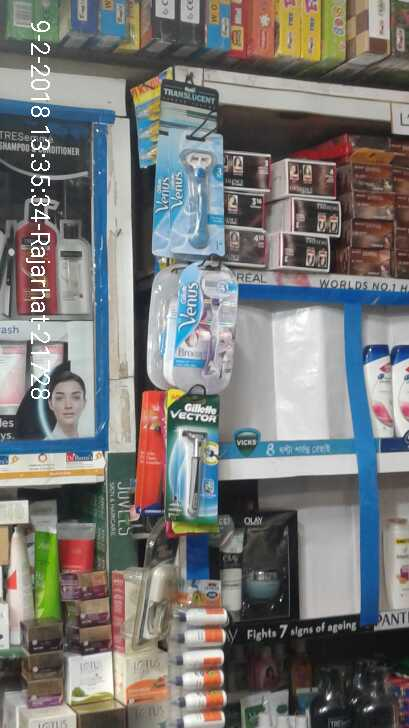beauty: (153, 129, 227, 259), (169, 379, 225, 523), (172, 269, 231, 392), (356, 335, 396, 442)
